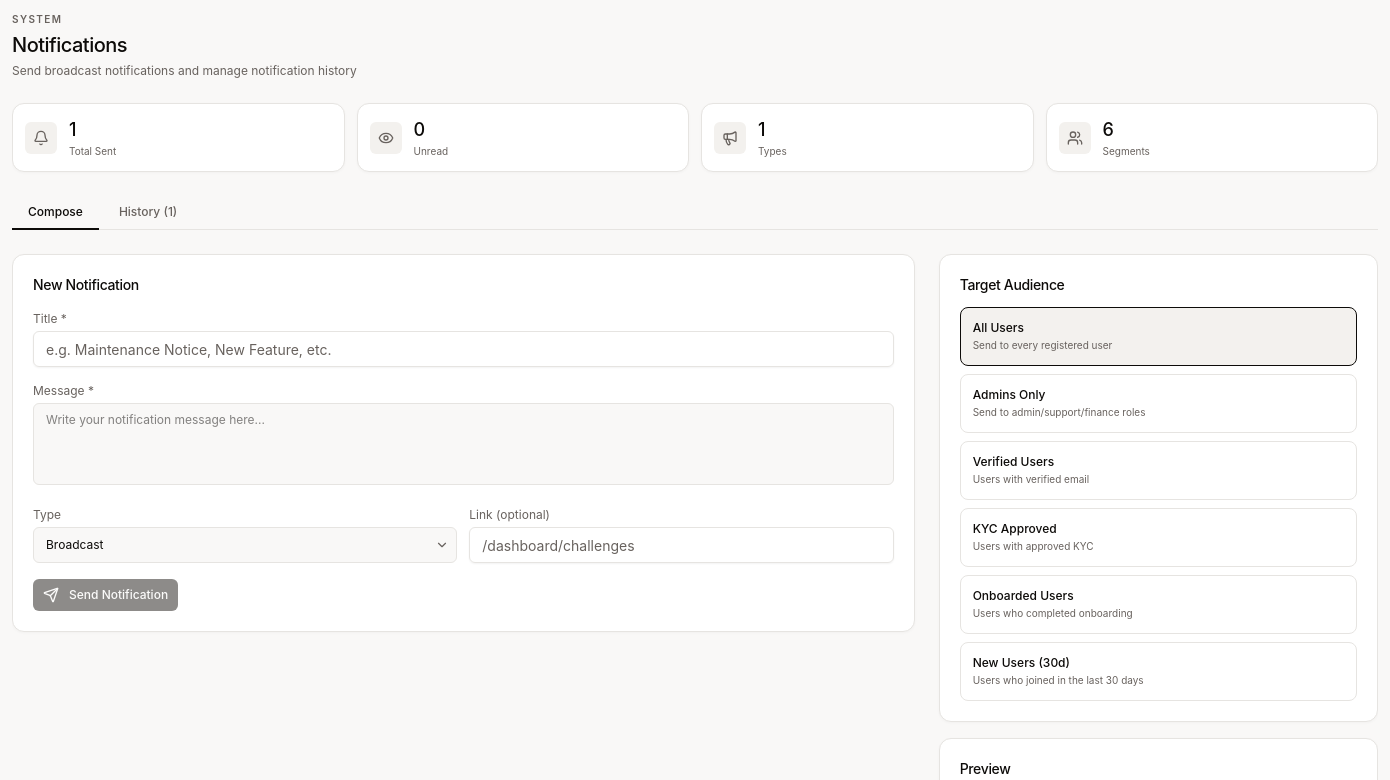
it: AdminNotifications Page › History Tab › switches to history tab
Step 1. Click the button "History (1)" → (148, 213), box [103,196,193,230]
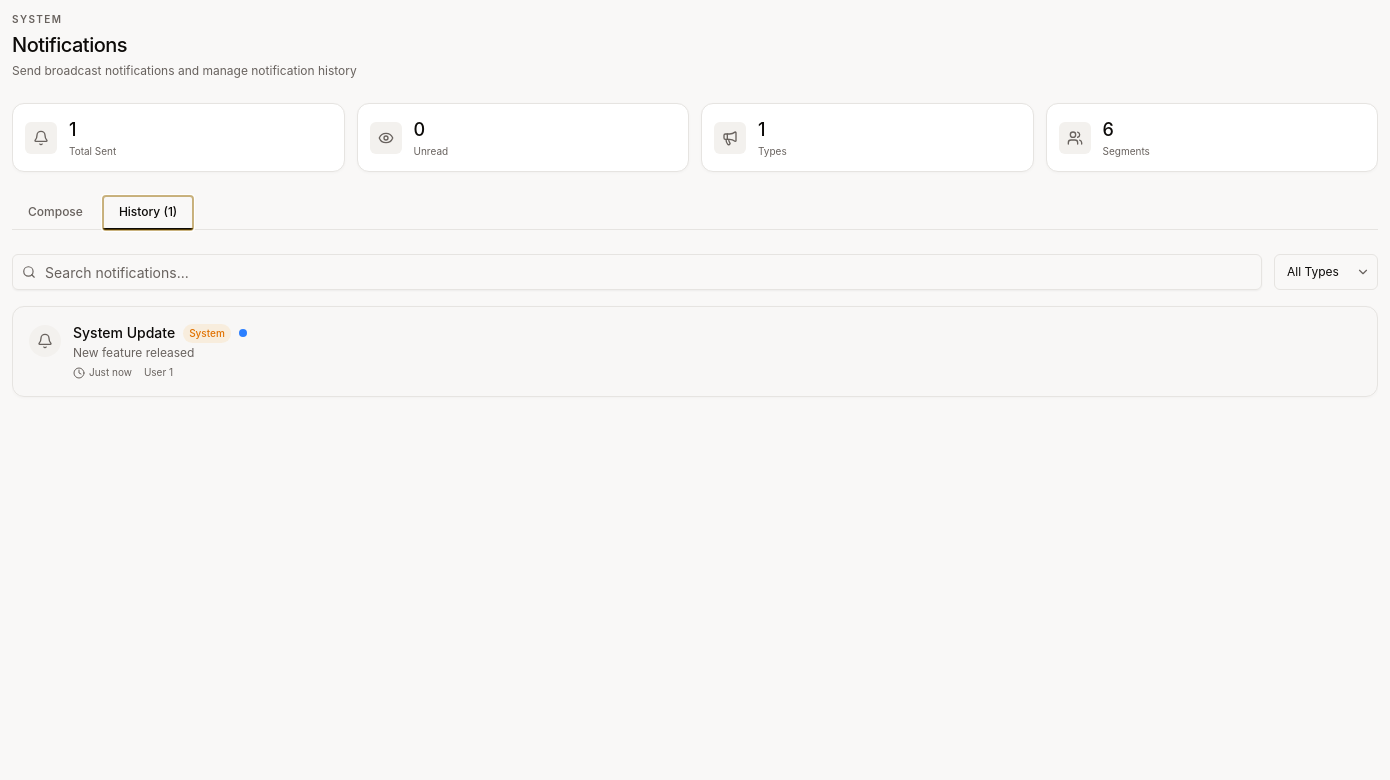
Now the text "System Update" is shown, box [73,323,175,343]
